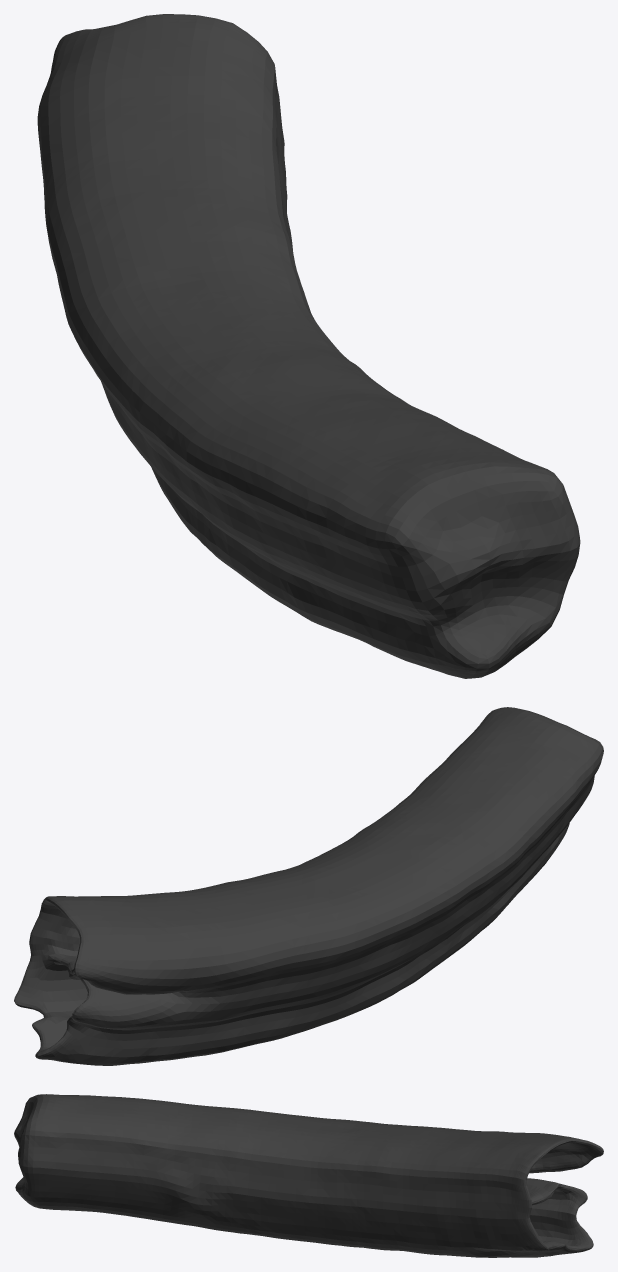
The model's file is tooth_rabbit_407_low.glb.
3 renders of one model, top to bottom at view 1: azimuth 30°, elevation 25°; view 2: azimuth 150°, elevation 25°; view 3: azimuth 270°, elevation 25°, orthographic. The views are drawn at different scales.
Visible parts, largest first — view 1: tooth_rabbit_407_low; view 2: tooth_rabbit_407_low; view 3: tooth_rabbit_407_low.
Part boxes in pixels (x1,y1,x2,y2): tooth_rabbit_407_low: [37, 14, 580, 678]; tooth_rabbit_407_low: [14, 707, 603, 1065]; tooth_rabbit_407_low: [14, 1094, 603, 1257].
Size of the model in its own units: 0.6337 by 0.4103 by 1.54.
Materials: 1 (1 with a texture image).
